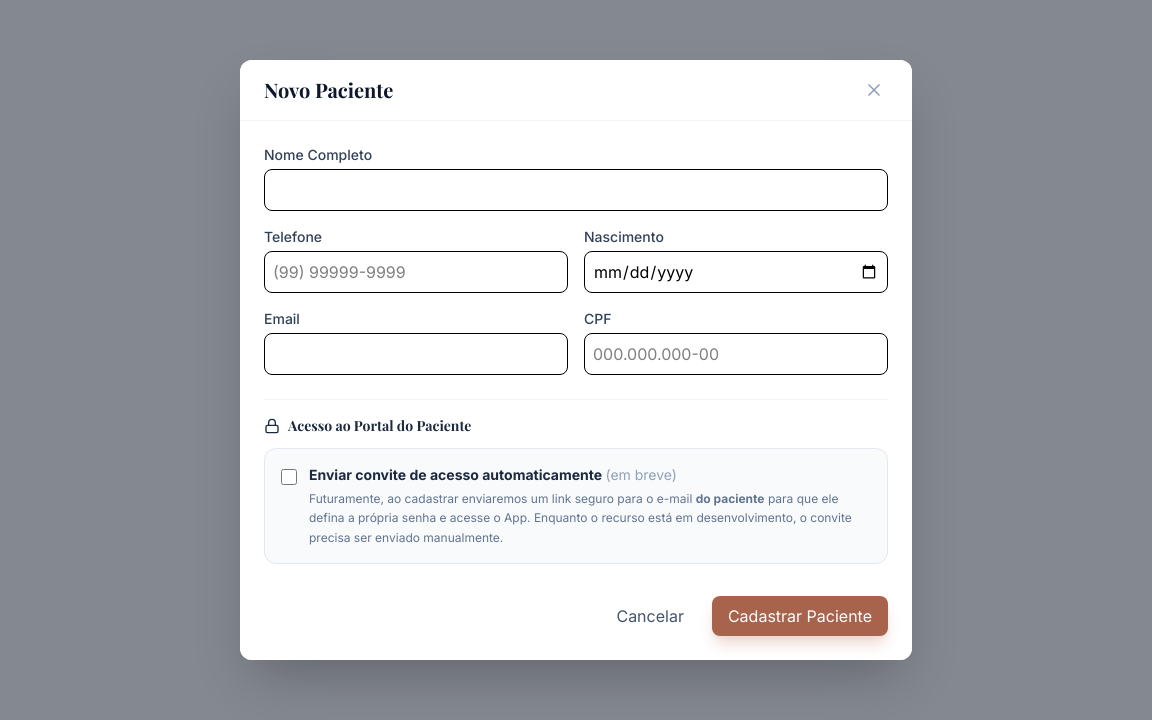
Test: NewPatientModal — validação client-side › bloqueia o submit com data de nascimento no futuro
Step 1. Type "Maria Souza" into the field named "Nome Completo" → (576, 190), box [264, 169, 888, 211]
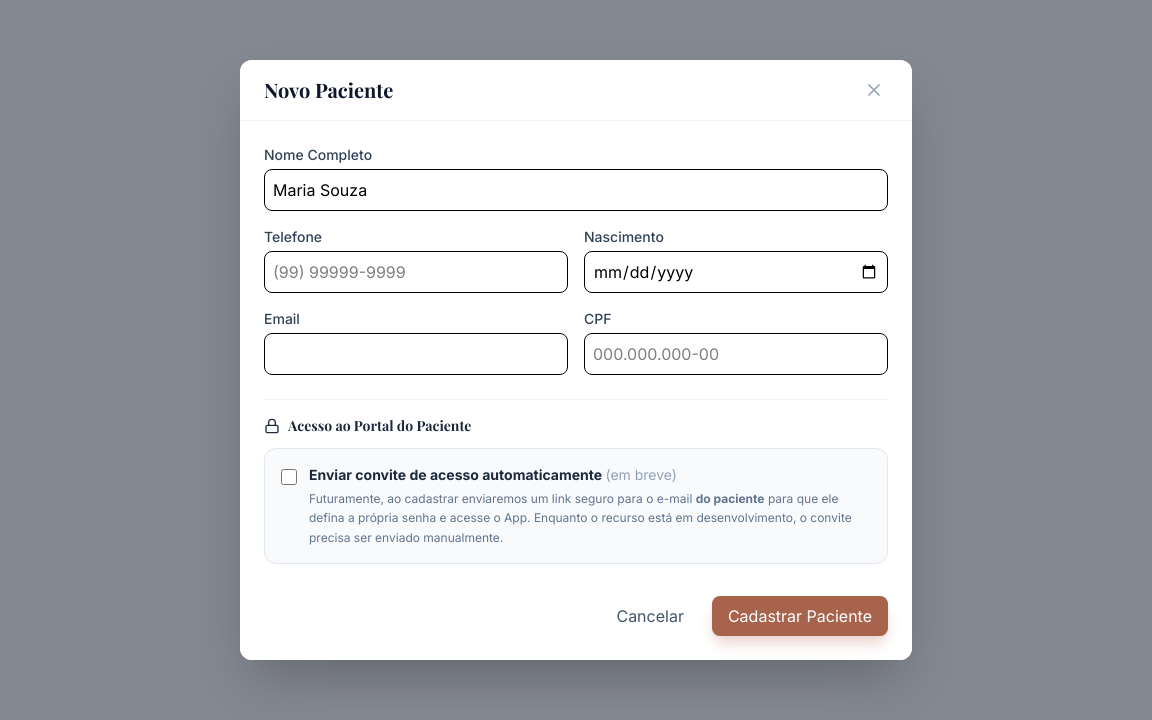
Step 2. Type "11999998888" into the field with placeholder "(99) 99999-9999" → (416, 272), box [264, 251, 568, 293]
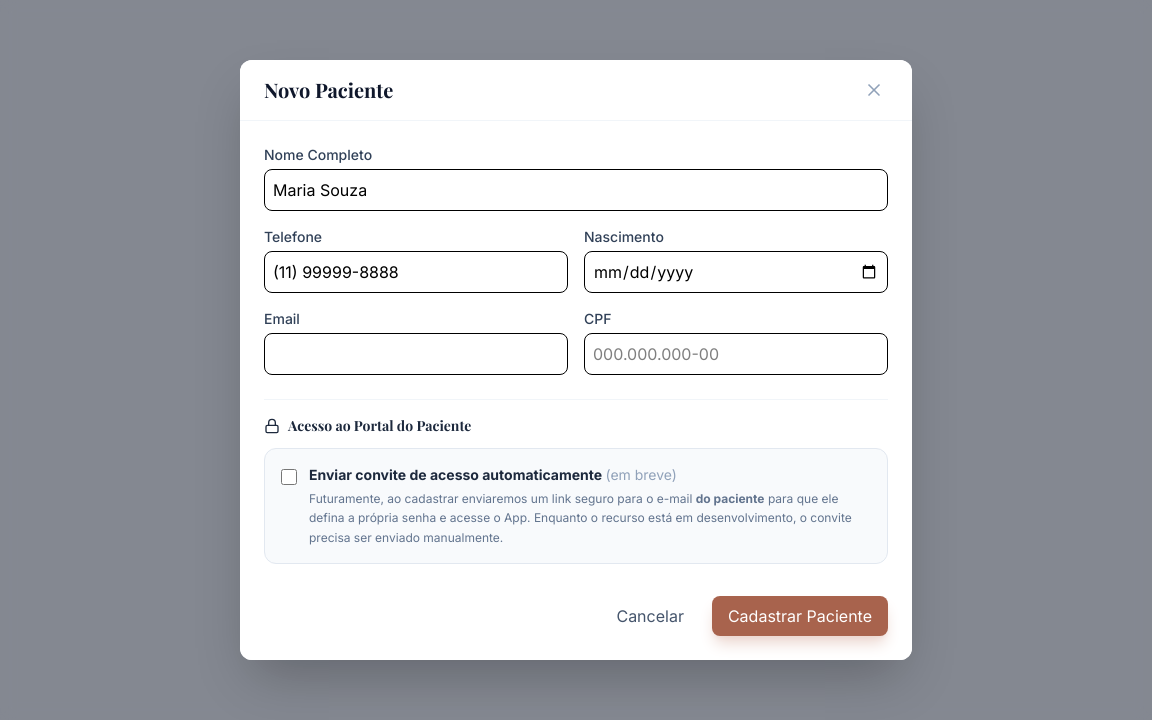
Step 3. Type "maria@example.com" into the field below "Email" → (416, 354), box [264, 333, 568, 375]
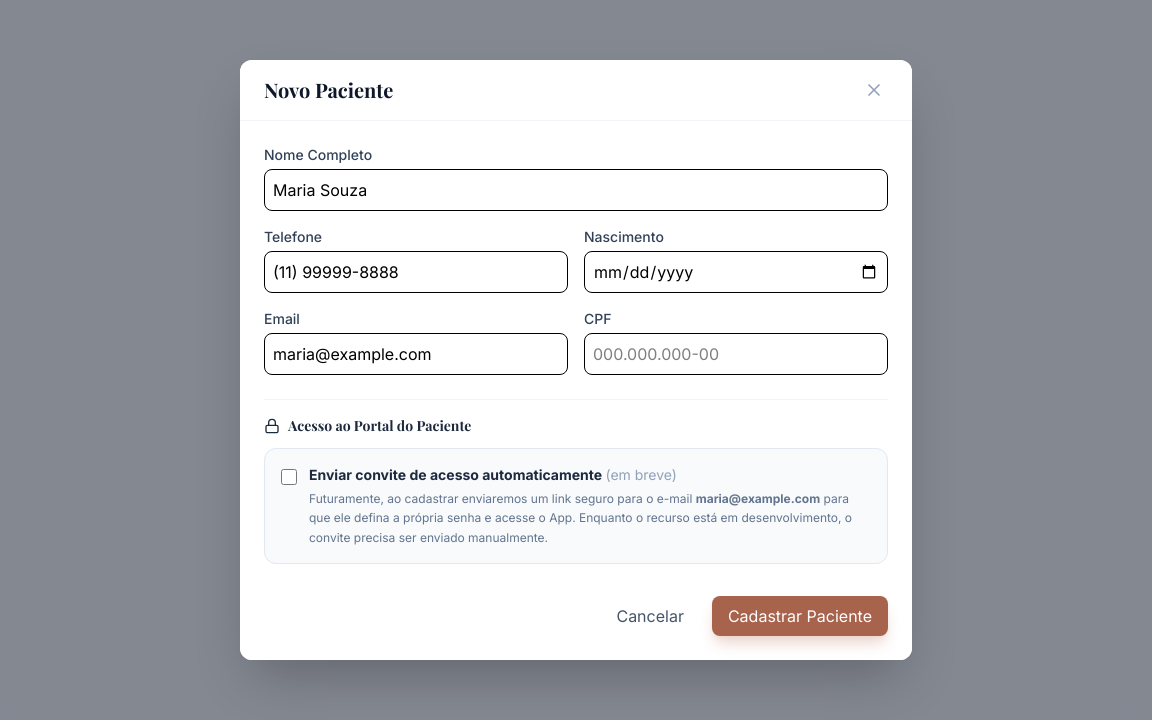
Step 4. Type "2099-01-01" into the date field → (736, 272), box [584, 251, 888, 293]
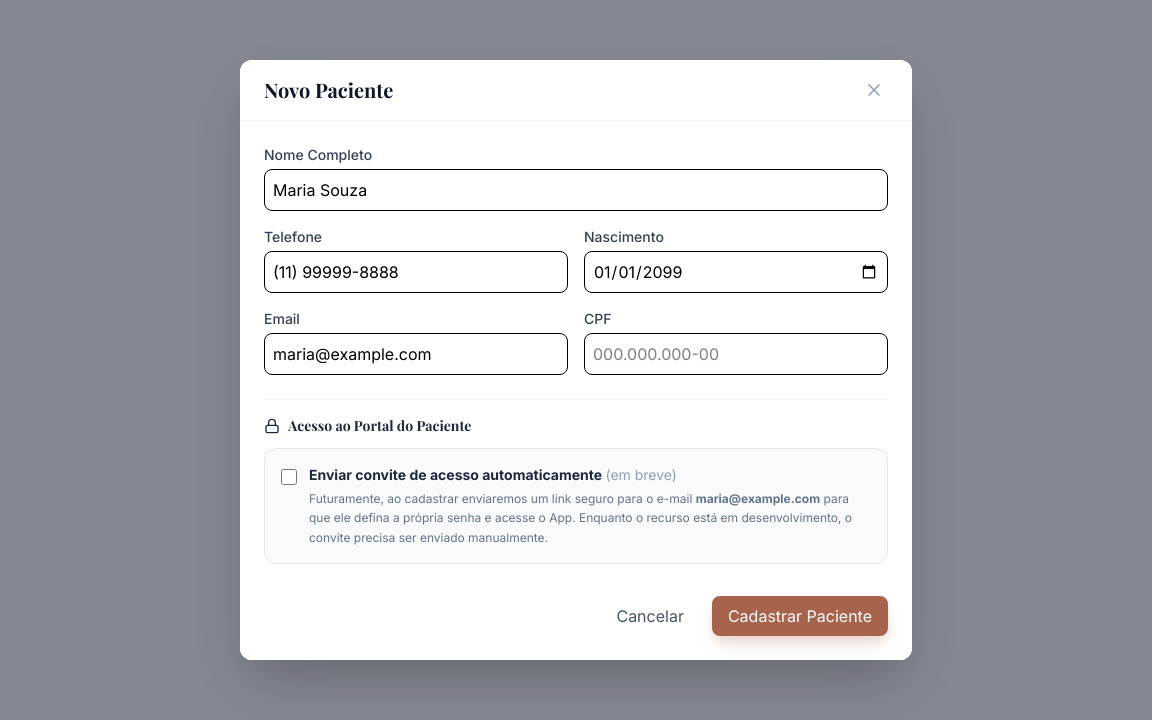
Step 5. Submit the form, box [264, 145, 888, 636]
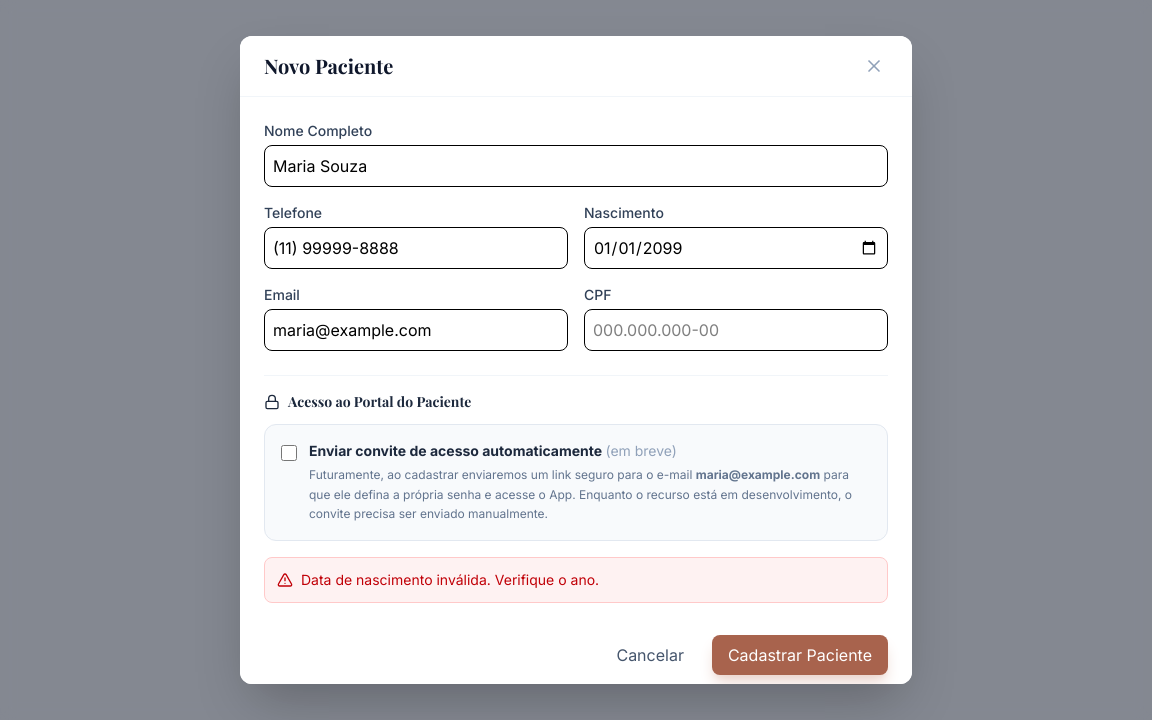
Check: the text "Data de nascimento inválida. Verifique o ano." is shown, box [264, 556, 888, 602]
